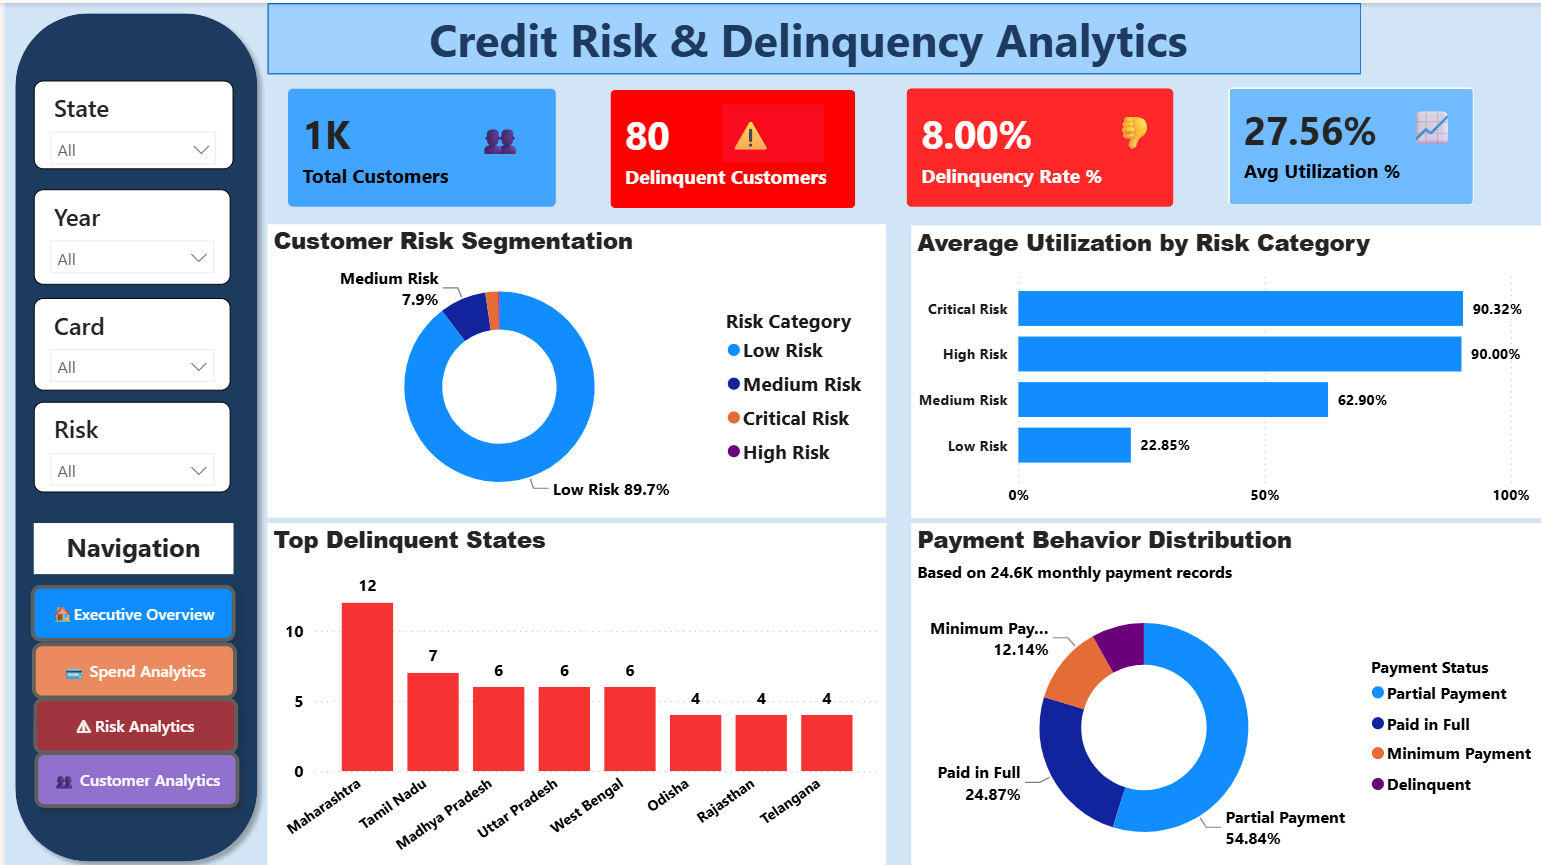

What the dashboard file says about the page in this screenshot:
{"tool":"powerbi","page":{"name":"Risk Analytics","canvas":[1280,720],"ordinal":2},"visuals":[{"type":"shape","box":[217.7,0,906.7,59.2],"z":0,"group":"g1"},{"type":"cardVisual","fields":{"Data":["Calculation Table.Delinquent Customers"]},"box":[484.6,54.7,237.8,132.9],"z":0,"group":"g3"},{"type":"donutChart","title":"Customer Risk Segmentation","fields":{"Category":["FactRiskProfile.RiskCategory"],"Y":["Calculation Table.Current Risk Customers"]},"box":[218.1,183.4,513,243.3],"z":0},{"type":"textbox","box":[274.4,0,792.2,67.1],"z":1000,"group":"g1"},{"type":"cardVisual","fields":{"Data":["Calculation Table.Delinquency Rate %"]},"box":[730.3,53.6,255.7,132.9],"z":1000,"group":"g4"},{"type":"clusteredBarChart","title":"Average Utilization by Risk Category","fields":{"Y":["Calculation Table.Average Utilization %"],"Category":["FactRiskProfile.RiskCategory"]},"box":[751.5,184.6,528.5,242.1],"z":1000},{"type":"donutChart","title":"Payment Behavior Distribution","fields":{"Category":["FactPayments.PaymentStatus"],"Y":["CountNonNull(FactPayments.PaymentID)"]},"box":[751.5,431,528.2,289.2],"z":2000},{"type":"shape","box":[0,0,217.7,720.2],"z":3000},{"type":"cardVisual","fields":{"Data":["Calculation Table.Average Utilization %"]},"box":[997.2,52.5,239,132.9],"z":4000,"group":"g2"},{"type":"slicer","fields":{"Values":["DimDate.Date.Variation.Date Hierarchy.Year"]},"box":[23.4,154.1,163,79.3],"z":4000},{"type":"slicer","fields":{"Values":["DimCard.CardCategory"]},"box":[23.4,244.5,163,77],"z":5000},{"type":"slicer","fields":{"Values":["DimCustomer.State"]},"box":[23.4,64.8,165.3,73.7],"z":6000},{"type":"slicer","fields":{"Values":["FactRiskProfile.RiskCategory"]},"box":[23.4,330.5,163,74.8],"z":7000},{"type":"textbox","box":[23.4,431,165.3,42.4],"z":8000},{"type":"actionButton","box":[12.1,473.5,187.6,64.8],"z":9000},{"type":"actionButton","box":[13.4,521.5,187.6,64.8],"z":10000},{"type":"actionButton","box":[14.5,567.2,187.6,64.8],"z":11000},{"type":"actionButton","box":[15.6,611.9,187.6,64.8],"z":12000},{"type":"group","id":"g1","title":"Group 4","box":[217.7,0,906.7,67.1],"z":13000},{"type":"group","id":"g2","title":"Group 2","box":[997.2,52.5,239,131.8],"z":14000},{"type":"columnChart","title":"Top Delinquent States","fields":{"Y":["Calculation Table.Delinquent Customers"],"Category":["DimCustomer.State"]},"box":[218.1,431.5,513,288.8],"z":15000},{"type":"group","id":"g3","title":"Group 3","box":[484.6,54.7,237.8,132.9],"z":16000},{"type":"group","id":"g4","title":"Group 5","box":[730.3,53.6,255.7,132.9],"z":17000},{"type":"textbox","box":[594.9,83.5,83.7,48],"z":17002,"group":"g3"},{"type":"textbox","box":[912.3,82.6,50.2,63.6],"z":17004,"group":"g4"},{"type":"cardVisual","fields":{"Data":["Calculation Table.Current Risk Customers"]},"box":[217.7,53.6,256.8,132.9],"z":18000},{"type":"textbox","box":[387.5,87.1,63.6,67],"z":19000},{"type":"textbox","box":[1160.2,78.2,48,53.6],"z":19001,"group":"g2"}]}

Visuals, with their boxes in screenshot pixels (x1, y1, x2, y2), scaled from the page's 1280x720 canvas onto the 1541x865 screenshot:
shape: 262, 0, 1354, 71
cardVisual - Calculation Table.Delinquent Customers: 583, 66, 870, 225
"Customer Risk Segmentation" donutChart: 263, 220, 880, 513
textbox: 330, 0, 1284, 81
cardVisual - Calculation Table.Delinquency Rate %: 879, 64, 1187, 224
"Average Utilization by Risk Category" clusteredBarChart: 905, 222, 1540, 513
"Payment Behavior Distribution" donutChart: 905, 518, 1540, 864
shape: 0, 0, 262, 864
cardVisual - Calculation Table.Average Utilization %: 1201, 63, 1488, 223
slicer - DimDate.Date.Variation.Date Hierarchy.Year: 28, 185, 224, 280
slicer - DimCard.CardCategory: 28, 294, 224, 386
slicer - DimCustomer.State: 28, 78, 227, 166
slicer - FactRiskProfile.RiskCategory: 28, 397, 224, 487
textbox: 28, 518, 227, 569
actionButton: 15, 569, 240, 647
actionButton: 16, 627, 242, 704
actionButton: 17, 681, 243, 759
actionButton: 19, 735, 245, 813
"Group 4" group: 262, 0, 1354, 81
"Group 2" group: 1201, 63, 1488, 221
"Top Delinquent States" columnChart: 263, 518, 880, 864
"Group 3" group: 583, 66, 870, 225
"Group 5" group: 879, 64, 1187, 224
textbox: 716, 100, 817, 158
textbox: 1098, 99, 1159, 176
cardVisual - Calculation Table.Current Risk Customers: 262, 64, 571, 224
textbox: 467, 105, 543, 185
textbox: 1397, 94, 1455, 158
